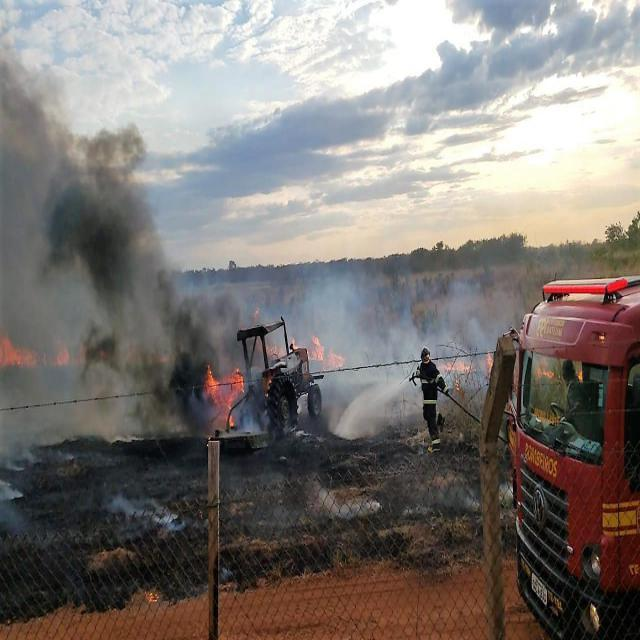Fire: (4, 333, 84, 367), (290, 327, 348, 372), (208, 368, 242, 426), (446, 351, 494, 388)
